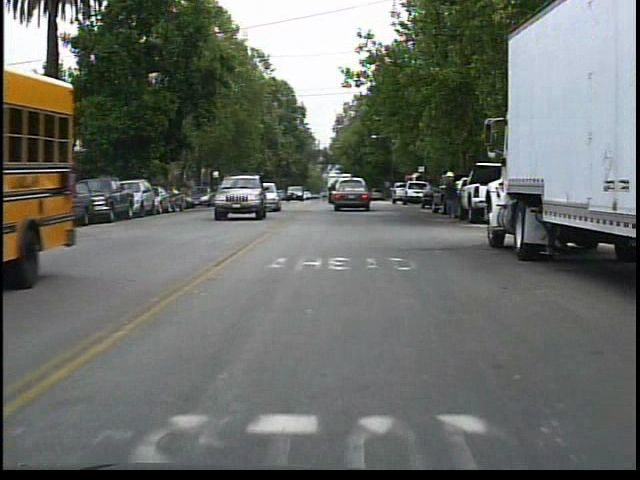person: (439, 169, 466, 224)
